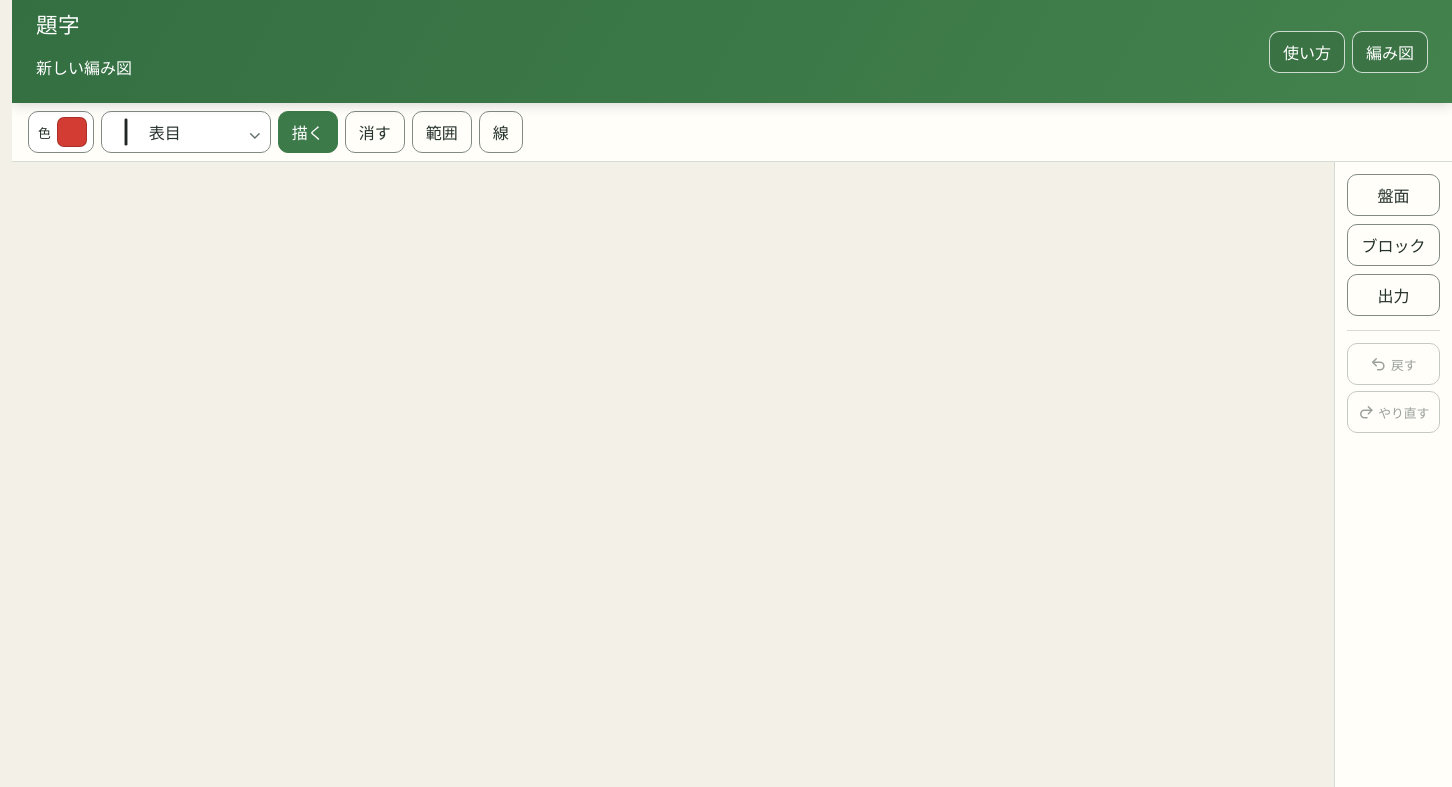
Test: EditorView › renders the host title around the document status and reports analytics
Expected: the heading "題字" is shown, [36, 12, 80, 38]
Click the button "盤面": (1394, 195) [1347, 174, 1440, 216]
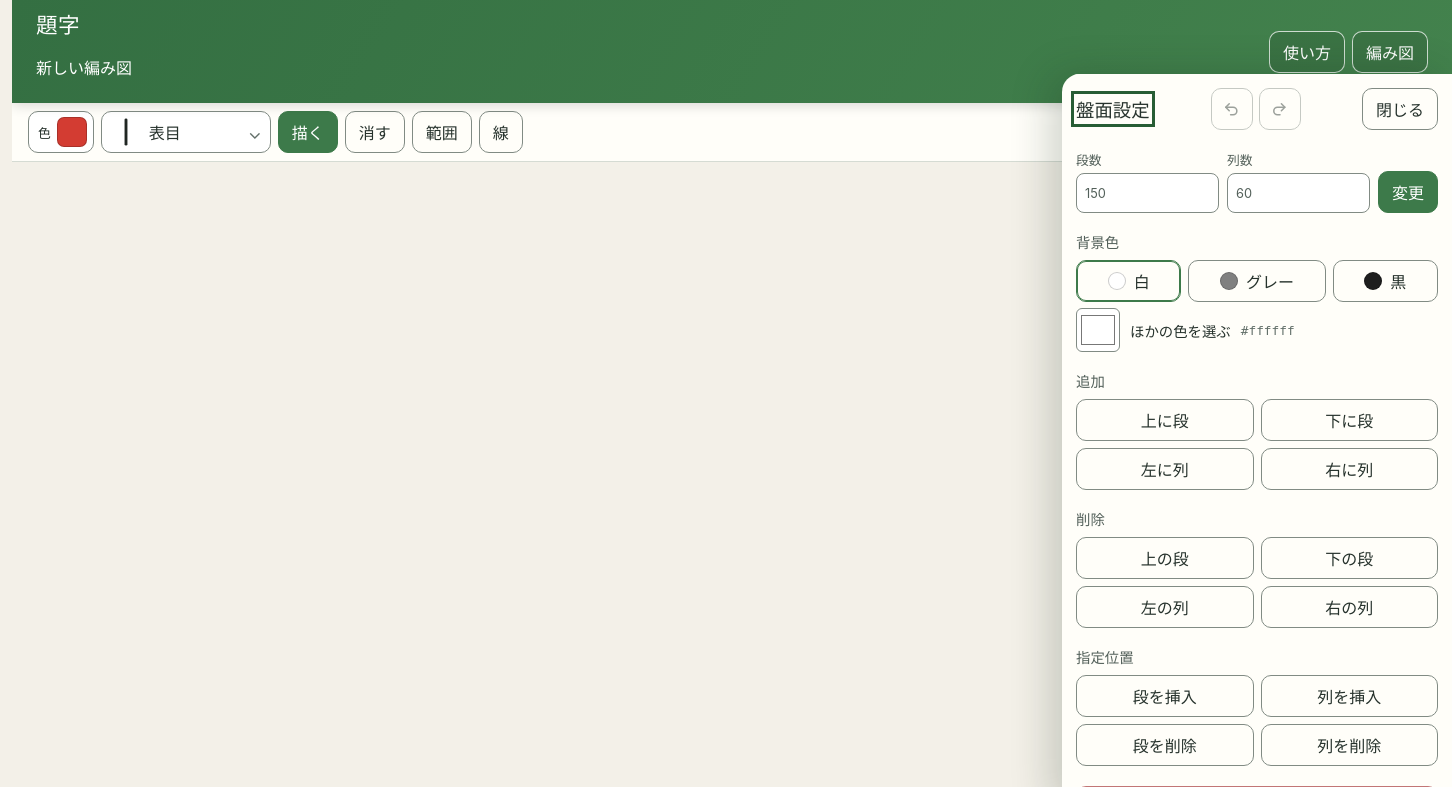
Expected: the heading with id "app-drawer-title" reads "盤面設定", [1076, 99, 1150, 121]
